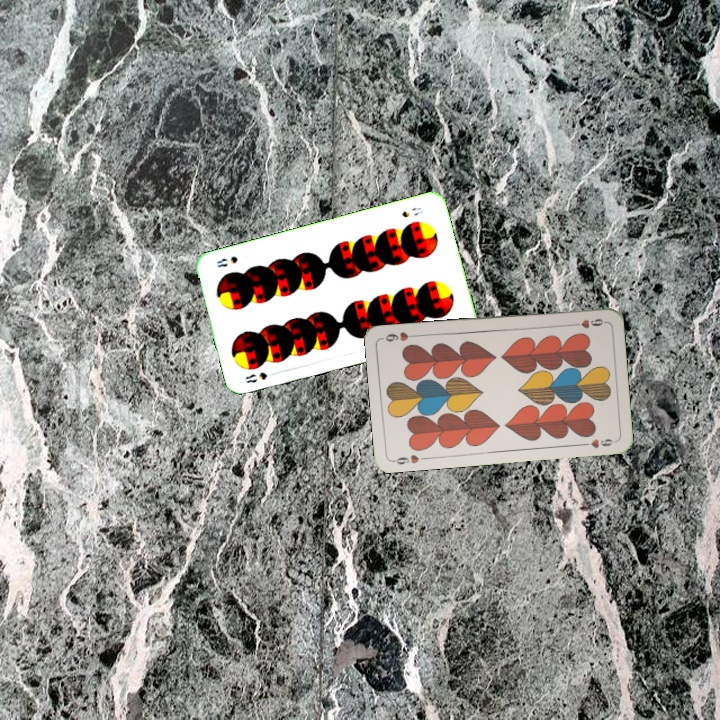H9: (567, 314, 607, 331), (389, 450, 429, 467)
S8: (241, 368, 270, 386), (398, 203, 425, 220)
